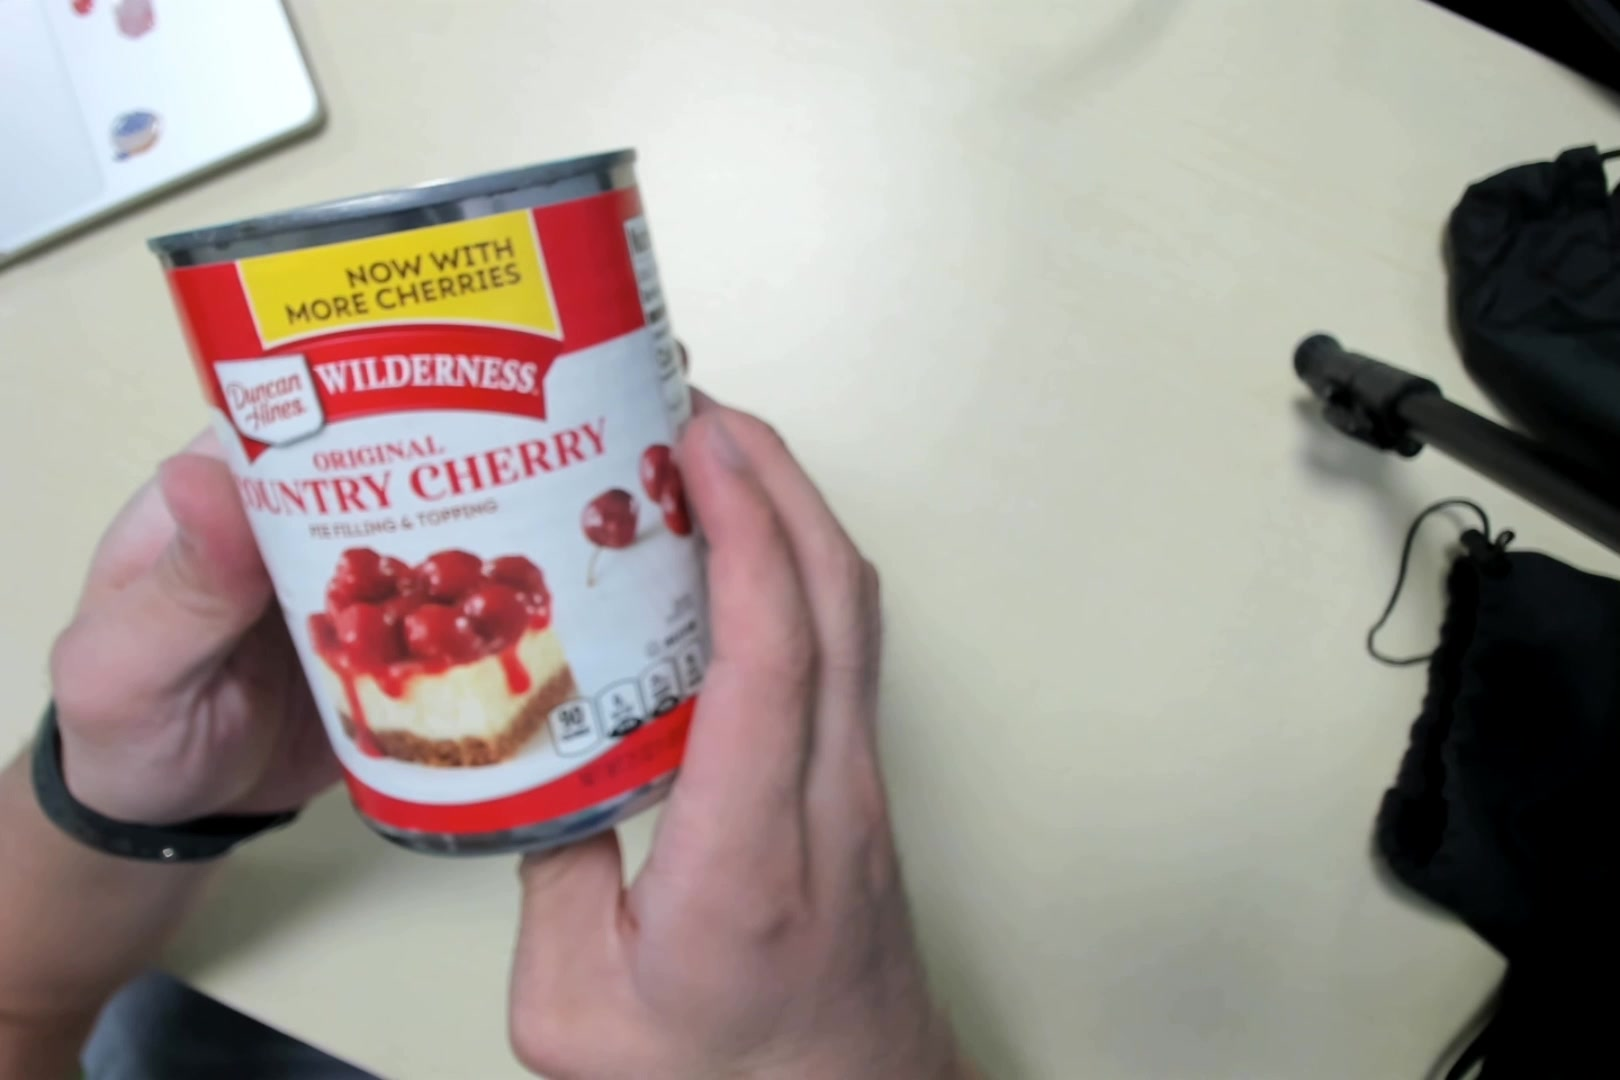OtherBakingNeeds_500-599g_NonHalal_NonHealthy: (183, 163, 714, 873)
